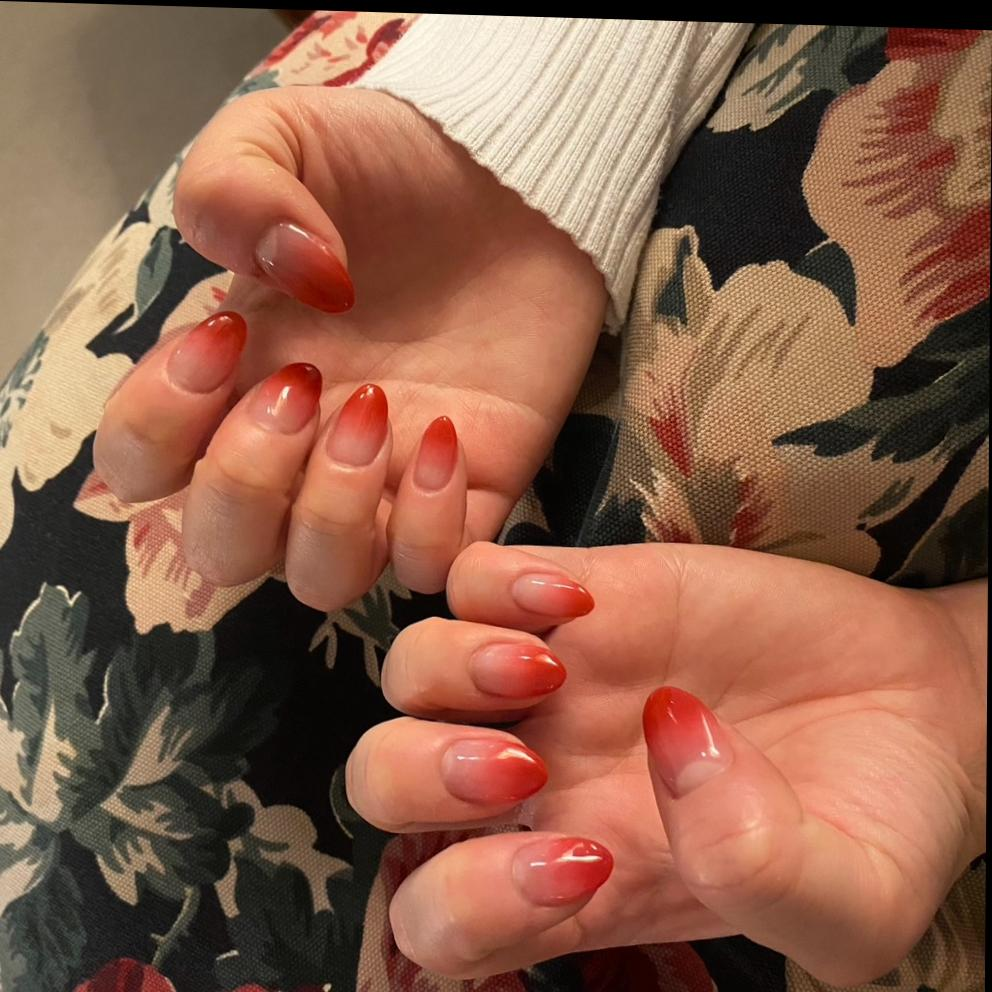nail: (639, 683, 735, 799), (251, 216, 355, 314), (437, 733, 549, 805), (508, 832, 613, 908), (163, 307, 247, 393), (466, 638, 566, 698), (324, 380, 389, 468), (249, 358, 321, 434), (509, 569, 594, 618), (410, 413, 458, 492)
